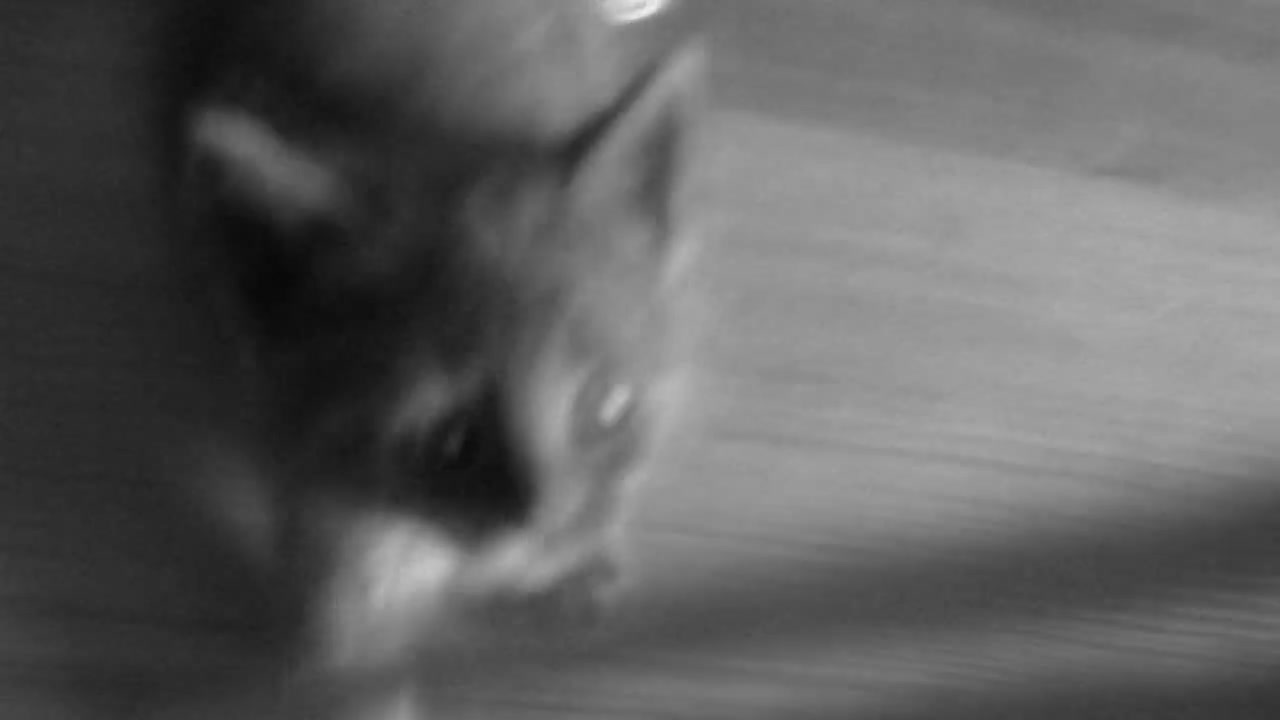cat: (132, 7, 709, 719)
